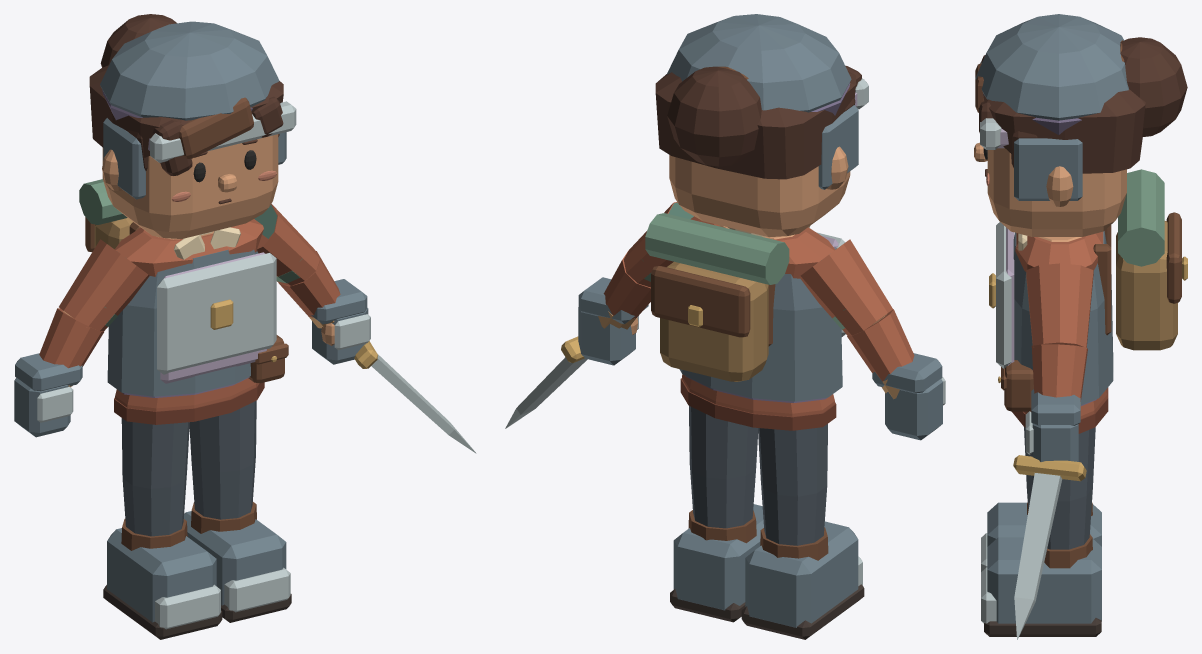
Rendered from villager_modular.glb.
3 renders of one model, left to right at view 1: azimuth 30°, elevation 25°; view 2: azimuth 150°, elevation 25°; view 3: azimuth 270°, elevation 25°, orthographic. The views are drawn at different scales.
Parts seen in each view (by area): view 1: Gear_Head_Helm__Shell, Gear_Body_Cuirass__Plate, Shared__Body_Head, Gear_Body_Cuirass__Shell, Outfit_Rust__Trouser_L, Outfit_Rust__Trouser_R, Gear_Feet_Iron__Boot_L, Outfit_Rust__Tunic, Outfit_Rust__SleeveUpper_L, Gear_Feet_Iron__Boot_R, Hair_Bun__Cap, Hair_Swept__Fringe_Centre (+26 smaller); view 2: Gear_Head_Helm__Shell, Shared__Body_Head, Gear_Body_Cuirass__Shell, Gear_Feet_Iron__Boot_L, Outfit_Rust__Trouser_L, Hair_Bun__Bun, Outfit_Rust__Trouser_R, Hair_Bun__Cap, Equipment_Backpack__Bag, Equipment_Backpack__Bedroll, Gear_Feet_Iron__Boot_R, Equipment_Backpack__Flap (+16 smaller); view 3: Gear_Head_Helm__Shell, Shared__Body_Head, Gear_Feet_Iron__Boot_R, Hair_Bun__Cap, Equipment_Backpack__Bag, Outfit_Rust__SleeveUpper_R, Gear_Body_Cuirass__Shell, Hair_Bun__Bun, Equipment_Backpack__Bedroll, Equipment_Sword__Blade, Gear_Head_Helm__Cheek_R, Outfit_Rust__Trouser_R (+19 smaller).
Boxes of the visible parts, x1,y1,x2,y2 form: Gear_Head_Helm__Shell: (100,21,279,120); Gear_Body_Cuirass__Plate: (157,253,276,374); Shared__Body_Head: (102,134,278,238); Gear_Body_Cuirass__Shell: (107,249,258,396); Outfit_Rust__Trouser_L: (121,418,189,536); Outfit_Rust__Trouser_R: (189,400,256,519); Gear_Feet_Iron__Boot_L: (107,528,216,622); Outfit_Rust__Tunic: (115,219,263,411); Outfit_Rust__SleeveUpper_L: (59,239,149,331); Gear_Feet_Iron__Boot_R: (184,511,286,605); Hair_Bun__Cap: (89,65,283,157); Hair_Swept__Fringe_Centre: (179,97,253,158); Gear_Head_Helm__Shell: (666,14,851,112); Shared__Body_Head: (669,155,850,237); Gear_Body_Cuirass__Shell: (679,274,842,401); Gear_Feet_Iron__Boot_L: (745,521,858,627); Outfit_Rust__Trouser_L: (758,424,827,545); Hair_Bun__Bun: (667,66,761,166); Outfit_Rust__Trouser_R: (689,406,757,528); Hair_Bun__Cap: (655,71,855,179); Equipment_Backpack__Bag: (660,261,768,381); Equipment_Backpack__Bedroll: (645,213,789,284); Gear_Feet_Iron__Boot_R: (673,504,763,610); Equipment_Backpack__Flap: (651,266,750,337); Gear_Head_Helm__Shell: (975,14,1128,120); Shared__Body_Head: (987,148,1126,236); Gear_Feet_Iron__Boot_R: (987,537,1101,623); Hair_Bun__Cap: (983,89,1145,173); Equipment_Backpack__Bag: (1116,221,1177,350); Outfit_Rust__SleeveUpper_R: (1026,263,1093,347); Gear_Body_Cuirass__Shell: (1013,231,1113,405); Hair_Bun__Bun: (1120,37,1187,136); Equipment_Backpack__Bedroll: (1118,169,1164,266); Equipment_Sword__Blade: (1014,473,1062,639); Gear_Head_Helm__Cheek_R: (1014,138,1082,200); Outfit_Rust__Trouser_R: (1024,427,1095,549).
Size of the model in its own units: 1.57 by 1.95 by 0.653.
